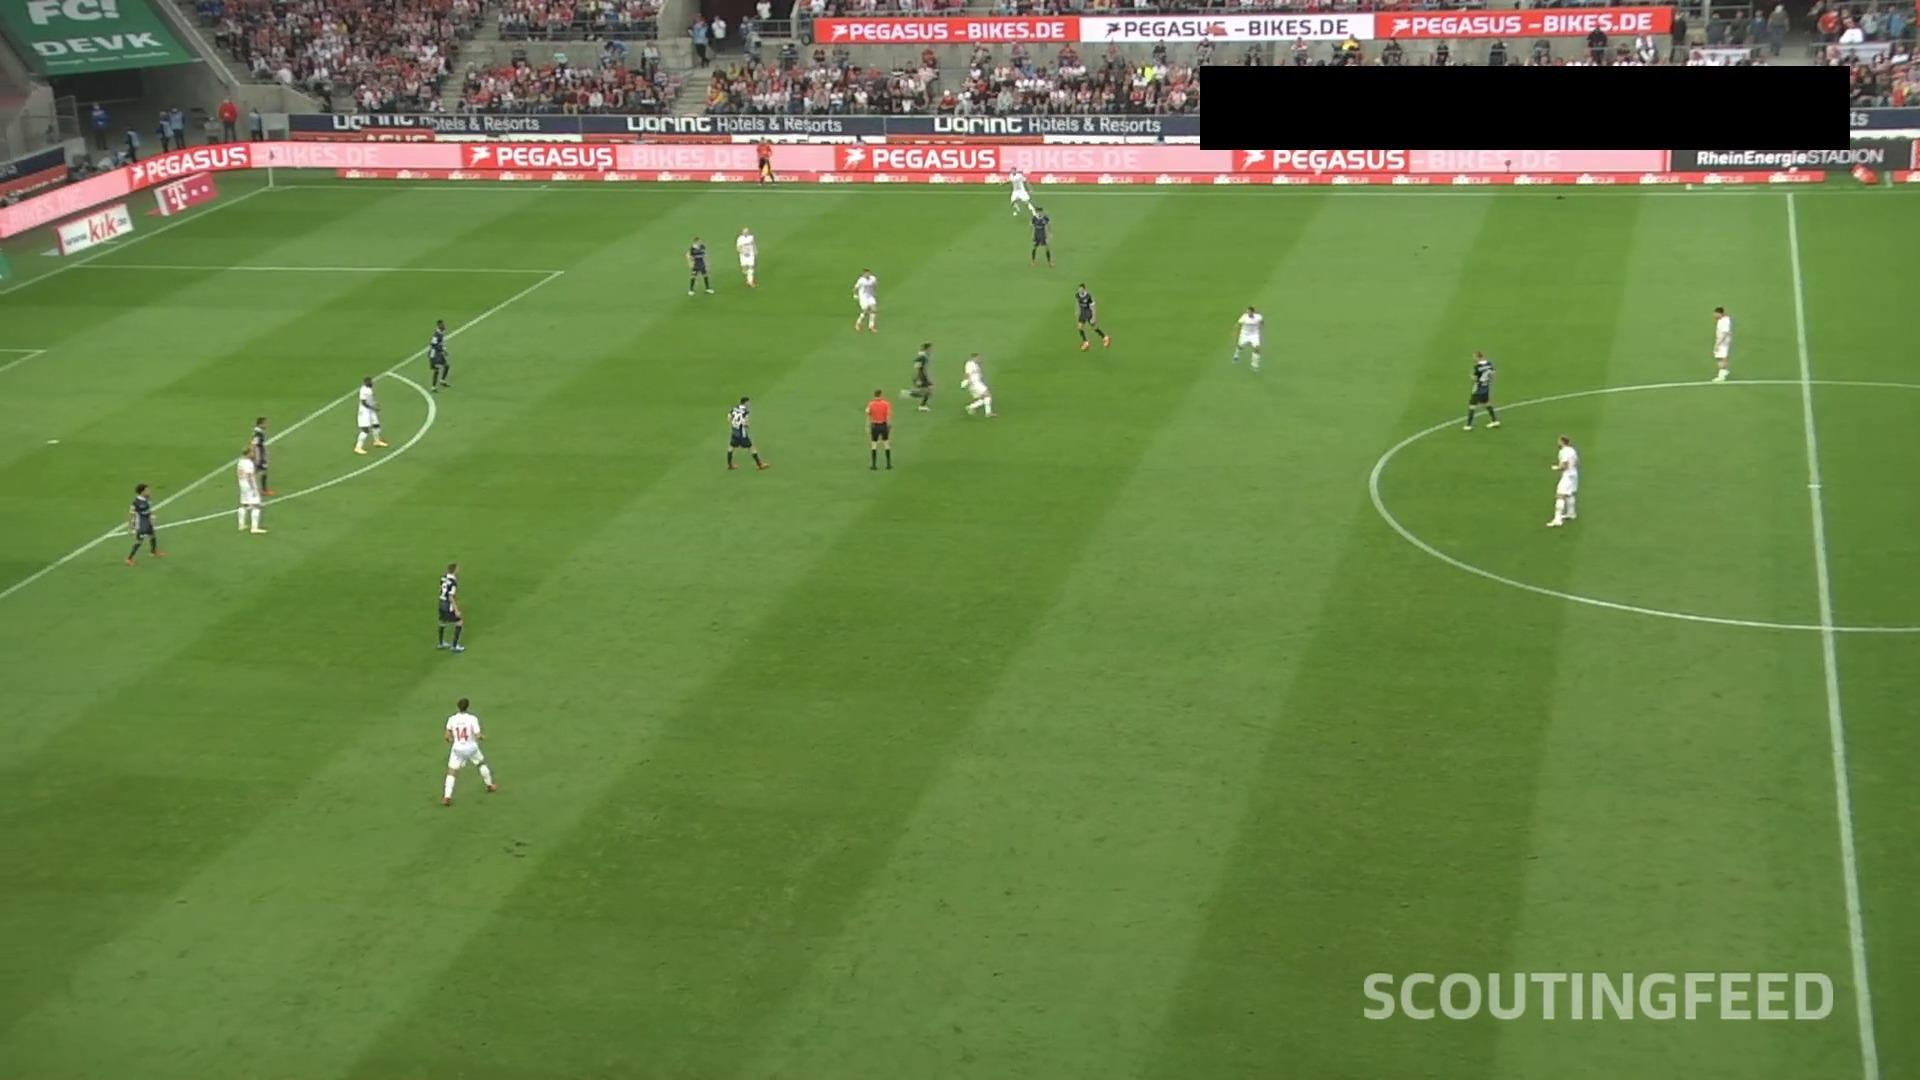ball: (960, 376, 972, 390)
